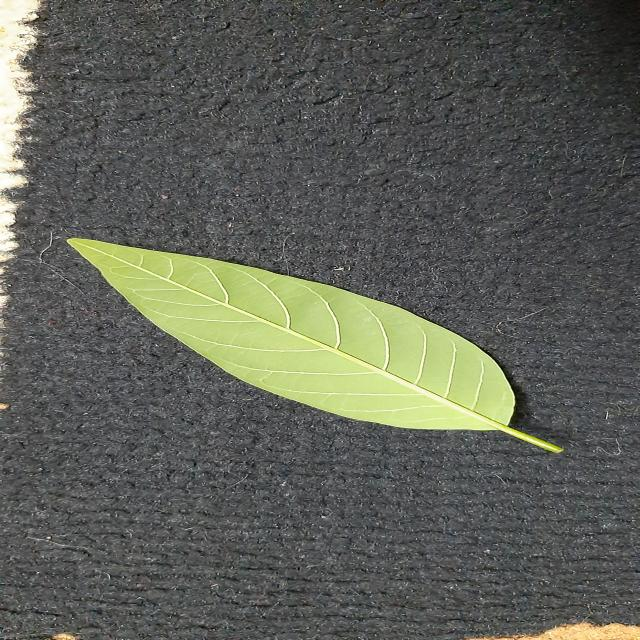seethaphala: (68, 239, 561, 452)
